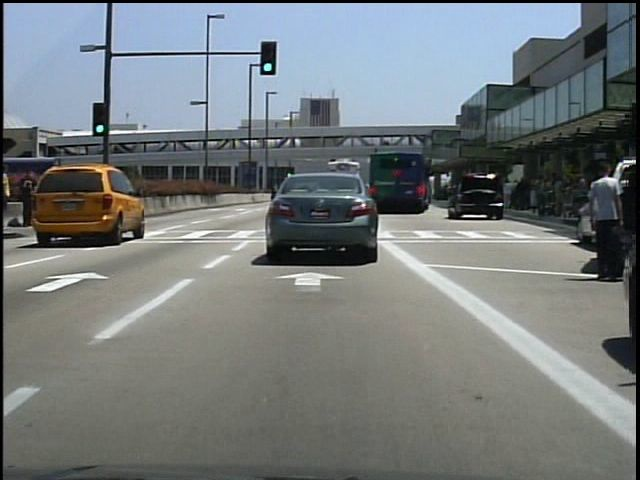person: (583, 155, 622, 285), (19, 165, 42, 229), (5, 165, 18, 232)
